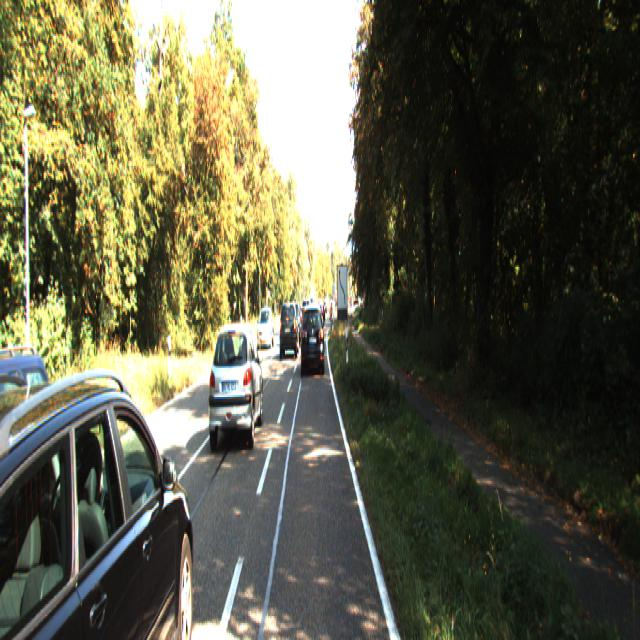Car: (0, 339, 200, 638), (206, 316, 262, 449), (300, 302, 324, 374), (279, 298, 299, 354), (256, 303, 274, 346)
